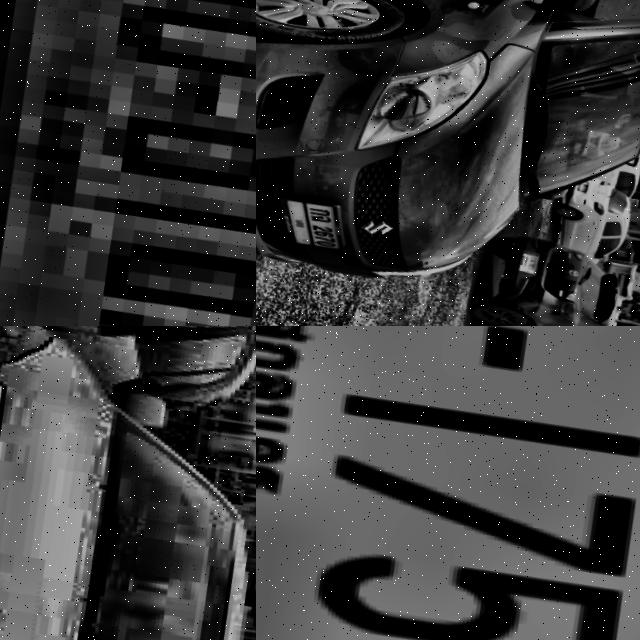license-plate: (256, 326, 640, 640), (0, 0, 256, 326), (271, 196, 350, 259), (509, 251, 541, 280), (571, 184, 585, 198)
